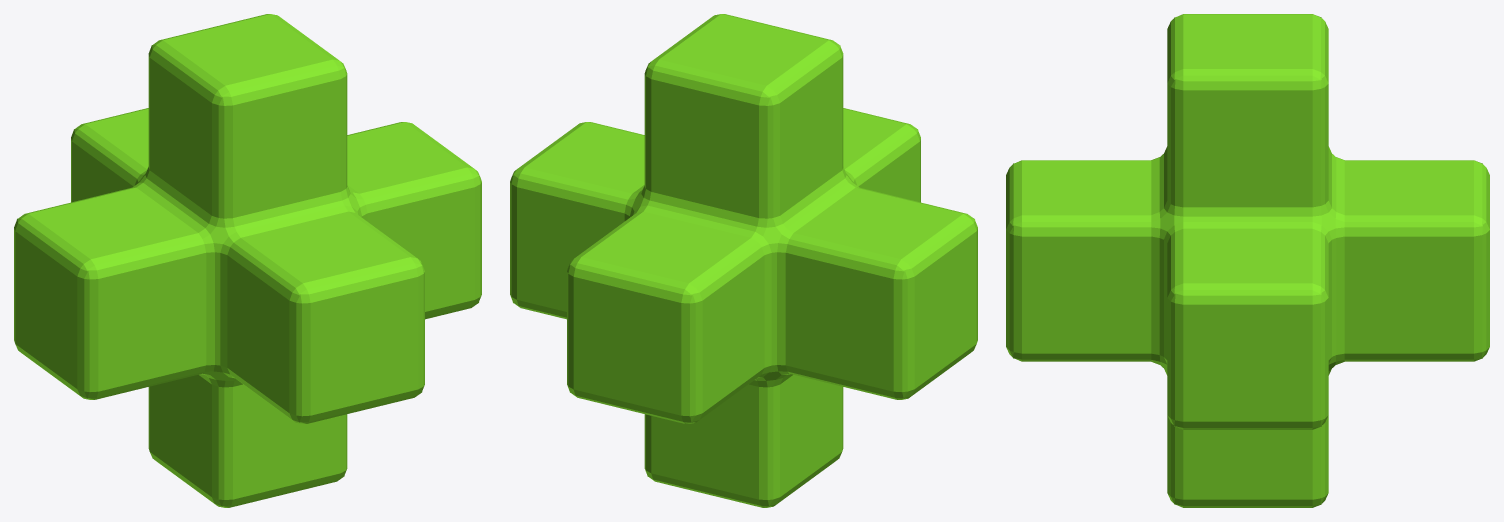
The model's file is healthpack.fbx.
The picture shows the model from 3 angles, left to right: view 1: azimuth 30°, elevation 25°; view 2: azimuth 150°, elevation 25°; view 3: azimuth 270°, elevation 25°; orthographic projection. The views are drawn at different scales.
Visible parts, largest first — view 1: Cube; view 2: Cube; view 3: Cube.
Part boxes in pixels (<box>): Cube: <box>14,14,481,507</box>; Cube: <box>510,14,977,507</box>; Cube: <box>1006,14,1489,507</box>.
Size of the model in its own units: 600 by 600 by 600.
